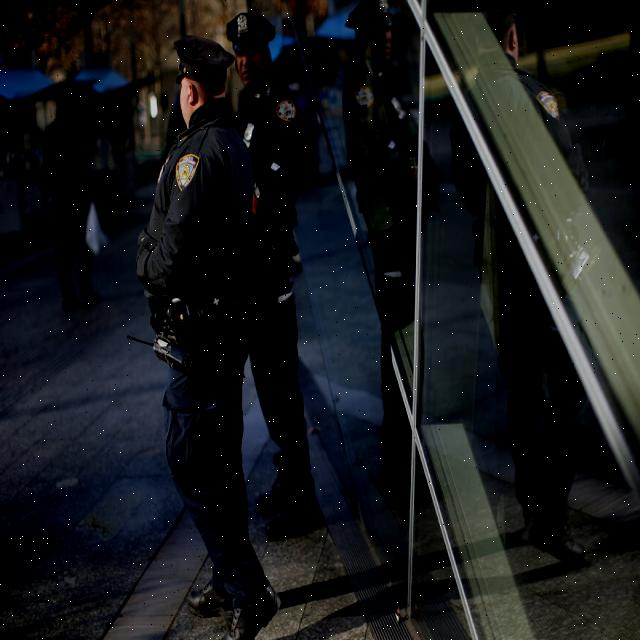police: (121, 12, 275, 640), (224, 7, 317, 560)
